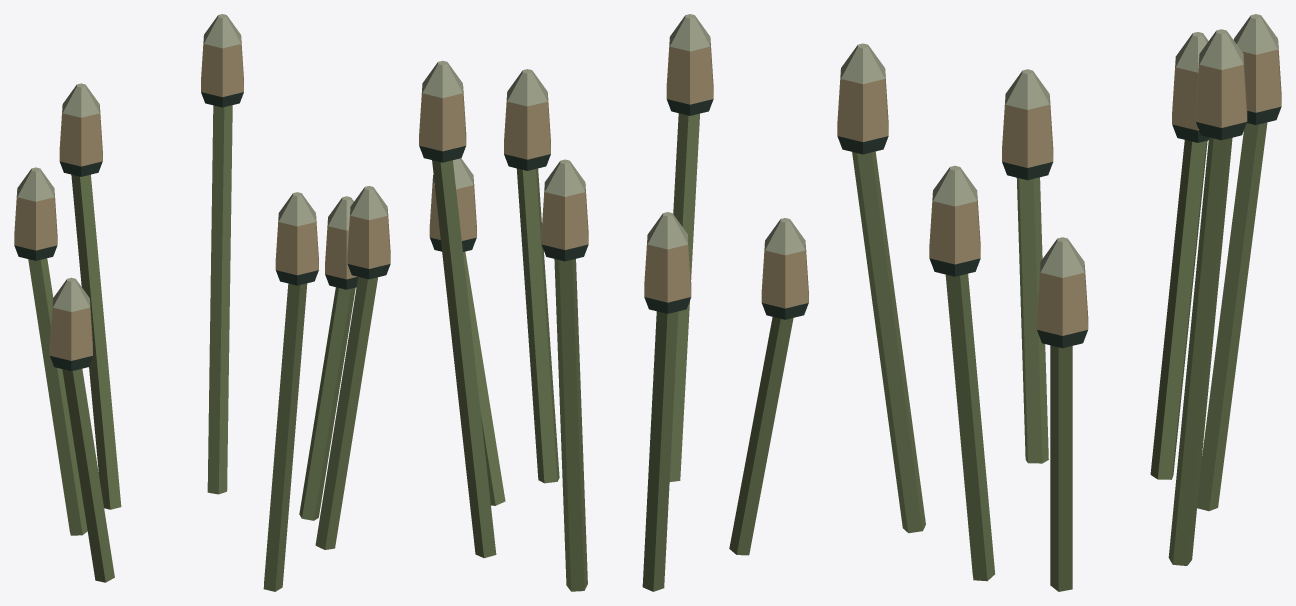
Rendered from reed-cluster.glb.
3 views of the same model, side by side, from view 1: azimuth 30°, elevation 25°; view 2: azimuth 150°, elevation 25°; view 3: azimuth 270°, elevation 25° (orthographic). The views are drawn at different scales.
Visible parts, largest first — view 1: reed-cluster__body; view 2: reed-cluster__body; view 3: reed-cluster__body.
Boxes of the visible parts, left/top/right/bottom form: reed-cluster__body: left=14, top=14, right=390, bottom=591; reed-cluster__body: left=419, top=14, right=808, bottom=591; reed-cluster__body: left=837, top=14, right=1281, bottom=591.
Bounding box in the file's own units: 0.9238 × 1.21 × 0.8985.
